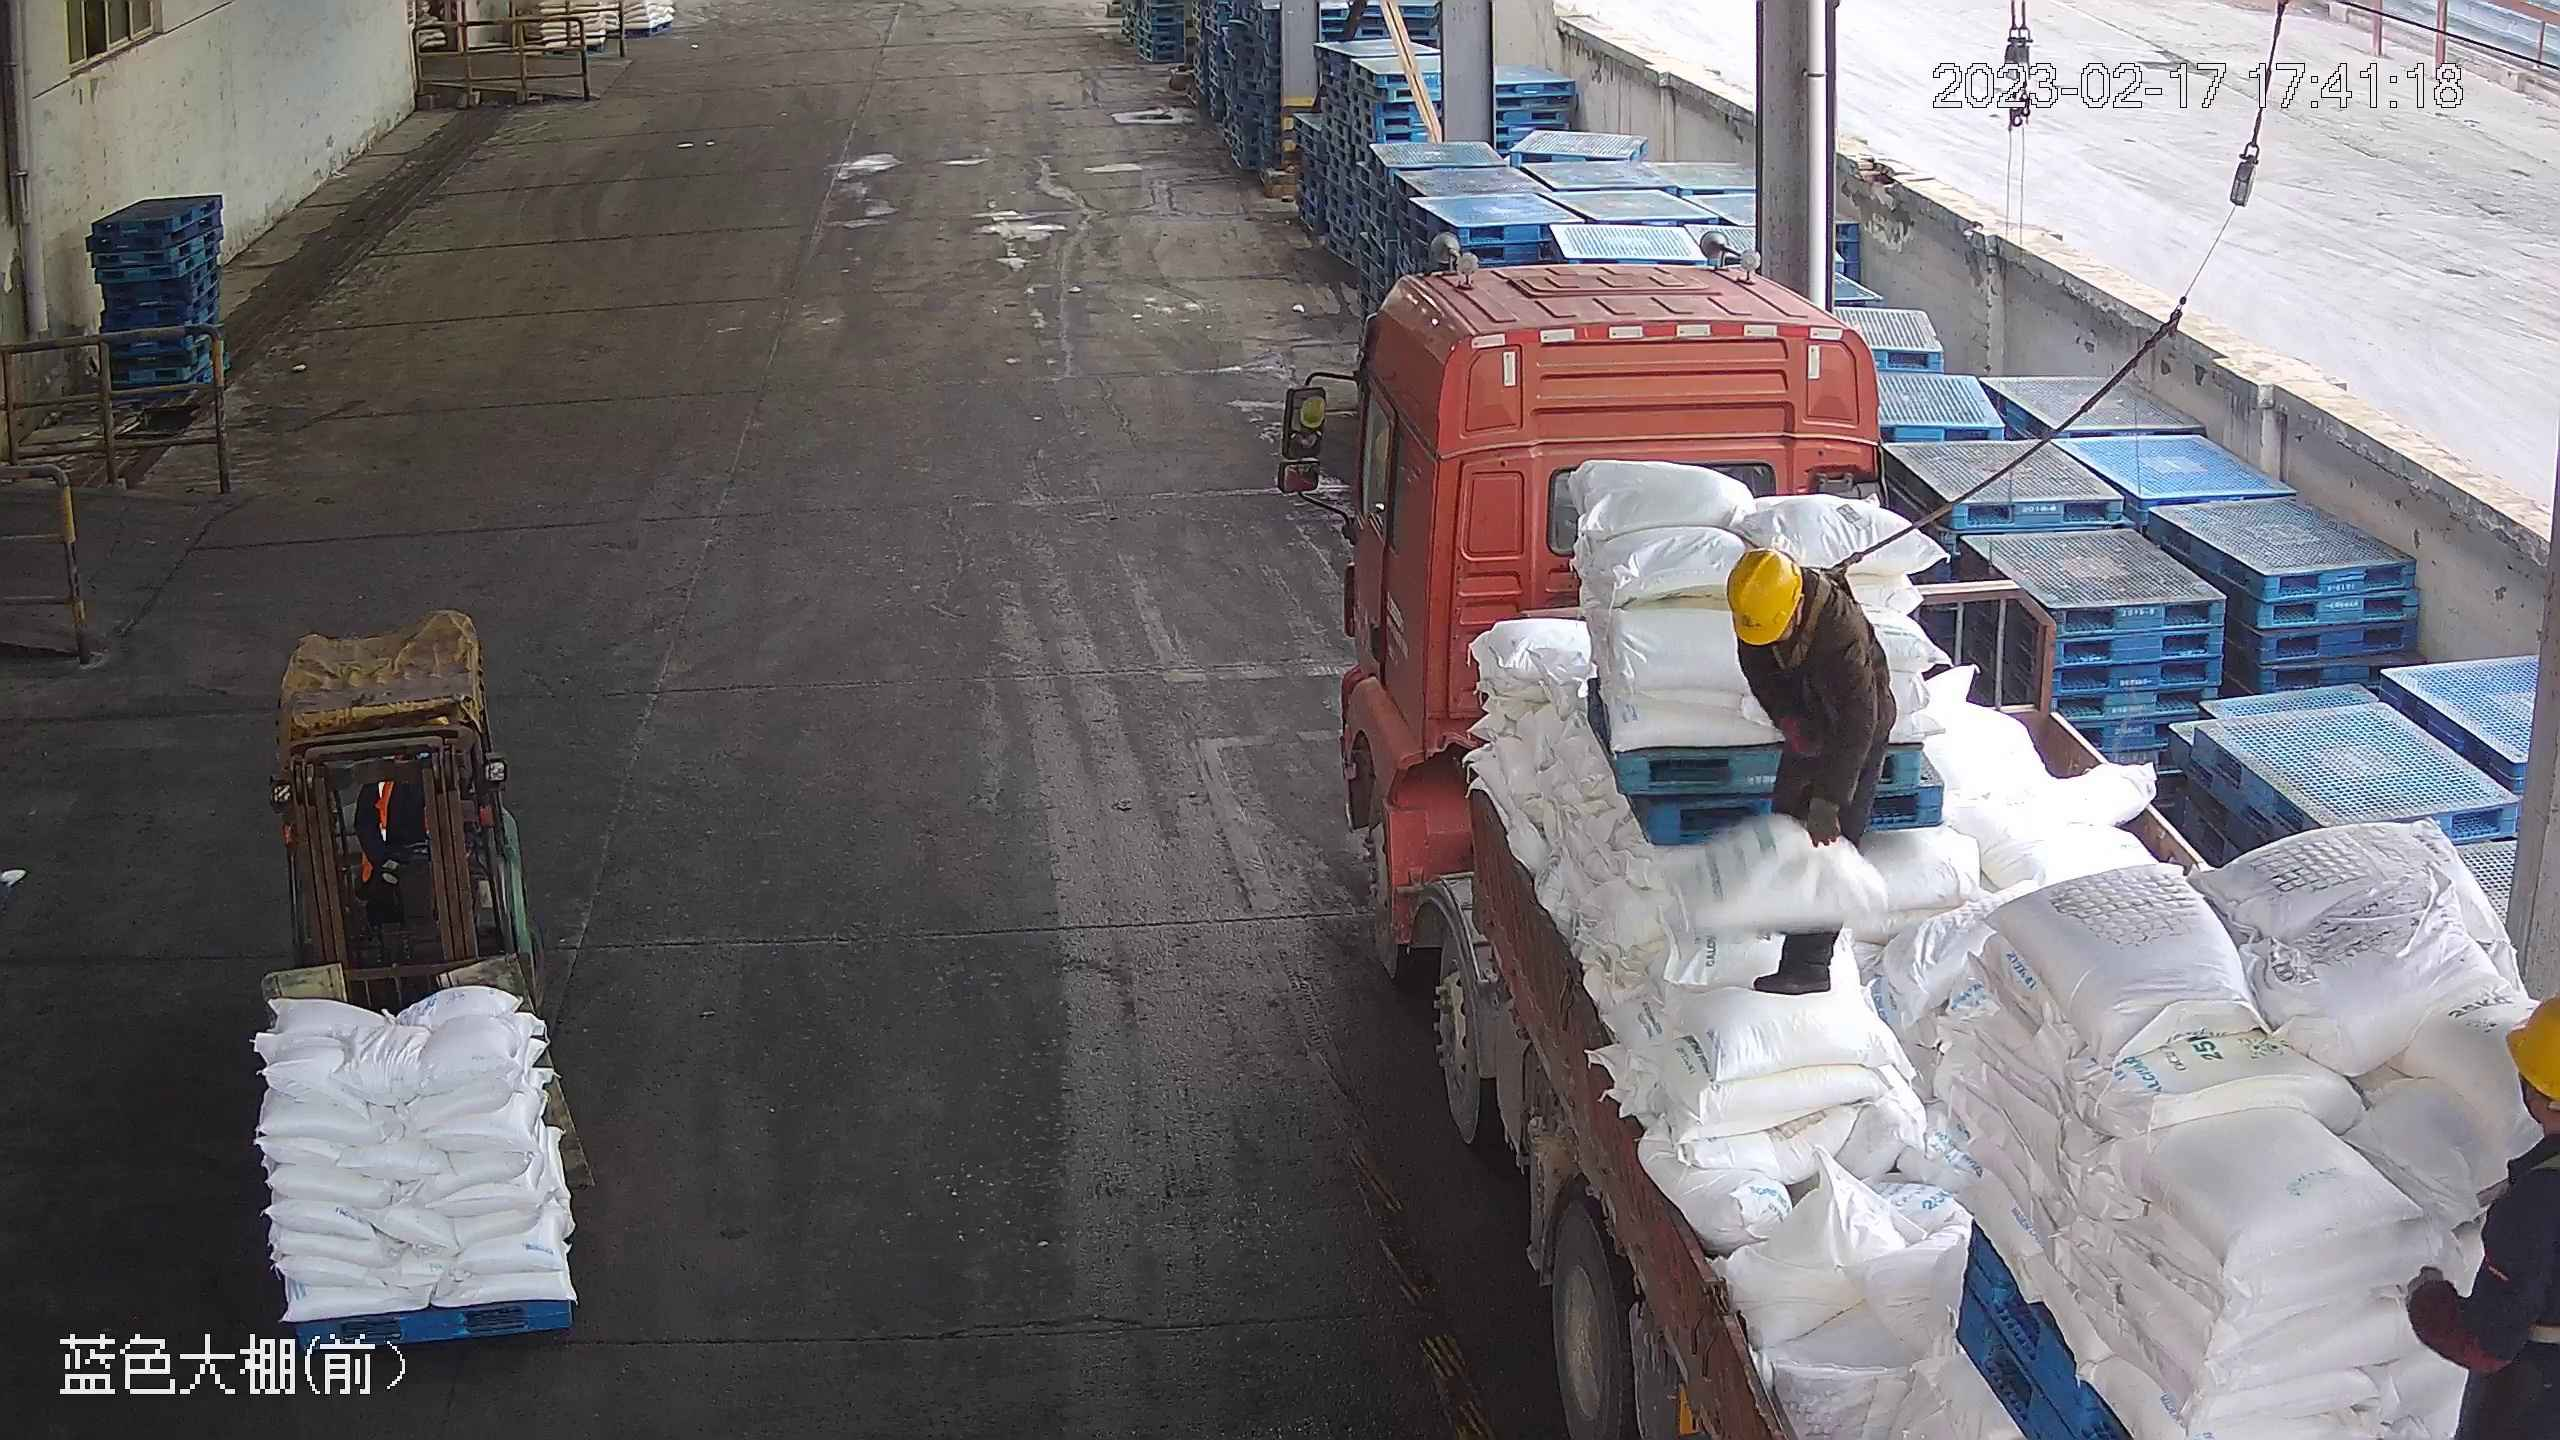belt: (2488, 1111, 2557, 1332), (1775, 537, 1868, 658)
head: (2457, 988, 2560, 1260), (1726, 541, 1861, 672)
helmet: (1724, 544, 1802, 645), (2506, 991, 2560, 1107)
people: (1721, 541, 1900, 938), (2406, 982, 2559, 1433)
truck: (1271, 254, 2554, 1435)
